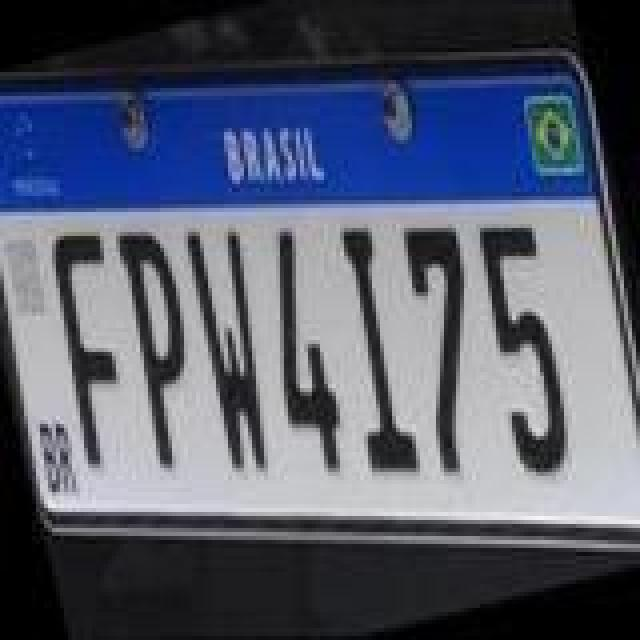4: (242, 220, 358, 480)
5: (460, 208, 596, 480)
7: (380, 218, 516, 482)
F: (30, 222, 162, 474)
I: (310, 216, 434, 484)
P: (100, 218, 220, 470)
W: (172, 218, 300, 482)
